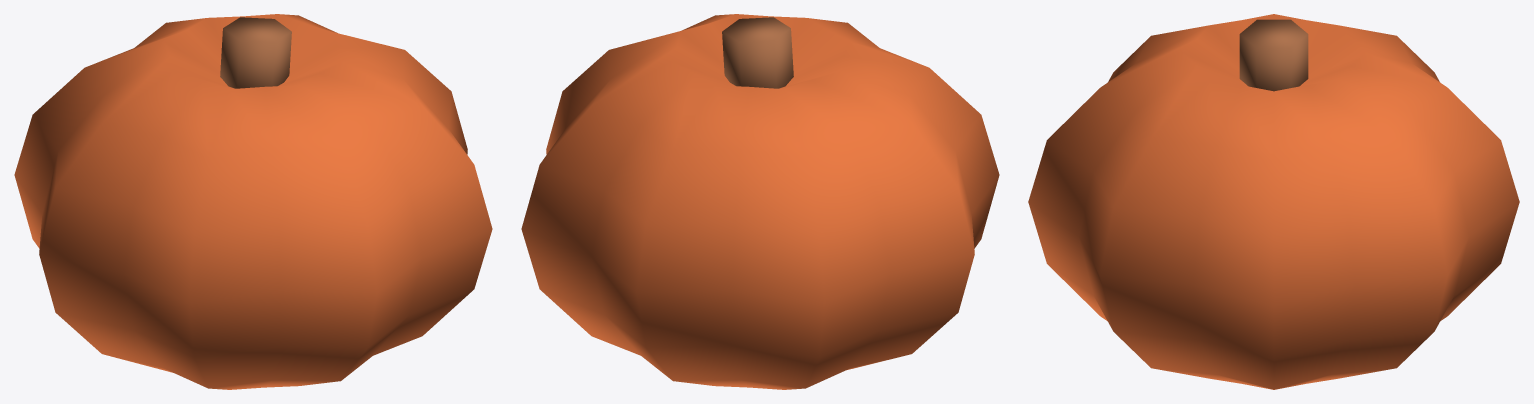
File: pumpkin.glb
The picture shows the model from 3 angles, left to right: view 1: azimuth 30°, elevation 25°; view 2: azimuth 150°, elevation 25°; view 3: azimuth 270°, elevation 25°; orthographic projection.
Parts seen in each view (by area): view 1: pumpkin_l; view 2: pumpkin_l; view 3: pumpkin_l.
Boxes of the visible parts, box(x1,y1,x2,y2) form: pumpkin_l: box(14, 14, 492, 389); pumpkin_l: box(521, 14, 999, 389); pumpkin_l: box(1028, 14, 1519, 389).
Size of the model in its own units: 0.6321 by 0.4603 by 0.6321.
